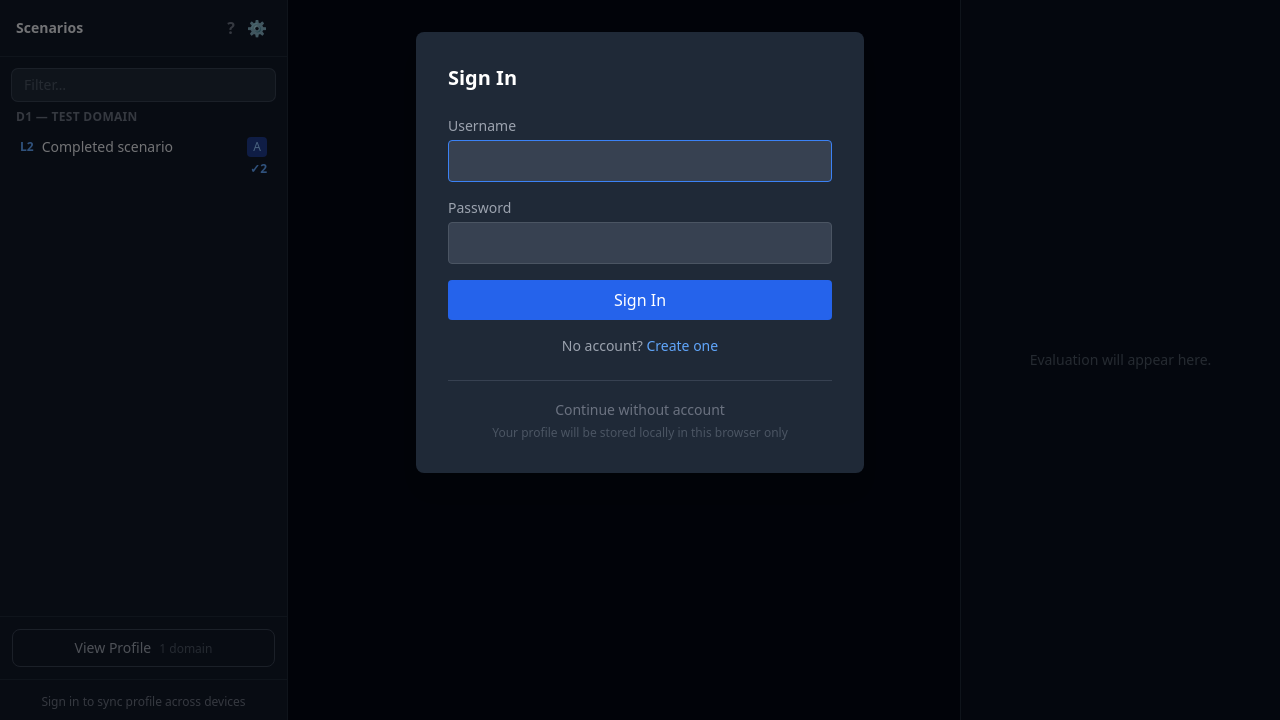
Test: App first-run and mobile layout › clears the in-memory profile and completion indicators immediately
The width and height of the screenshot is (1280, 720).
Click the button "Continue without account" at (640, 410), box [555,400,725,420]
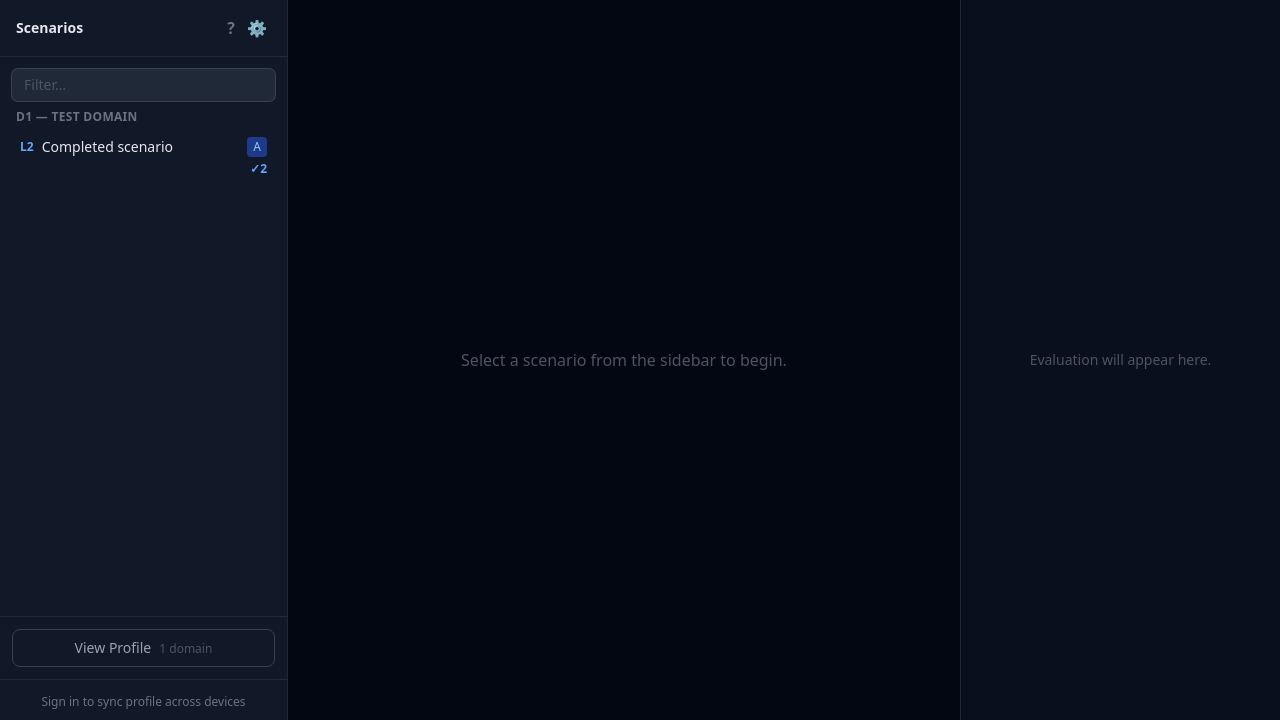
Expected: the text "✓2" is shown, [250,161,267,177]
Click the button titled "Settings" at (257, 28), box [243,12,271,44]
(page scrolled)
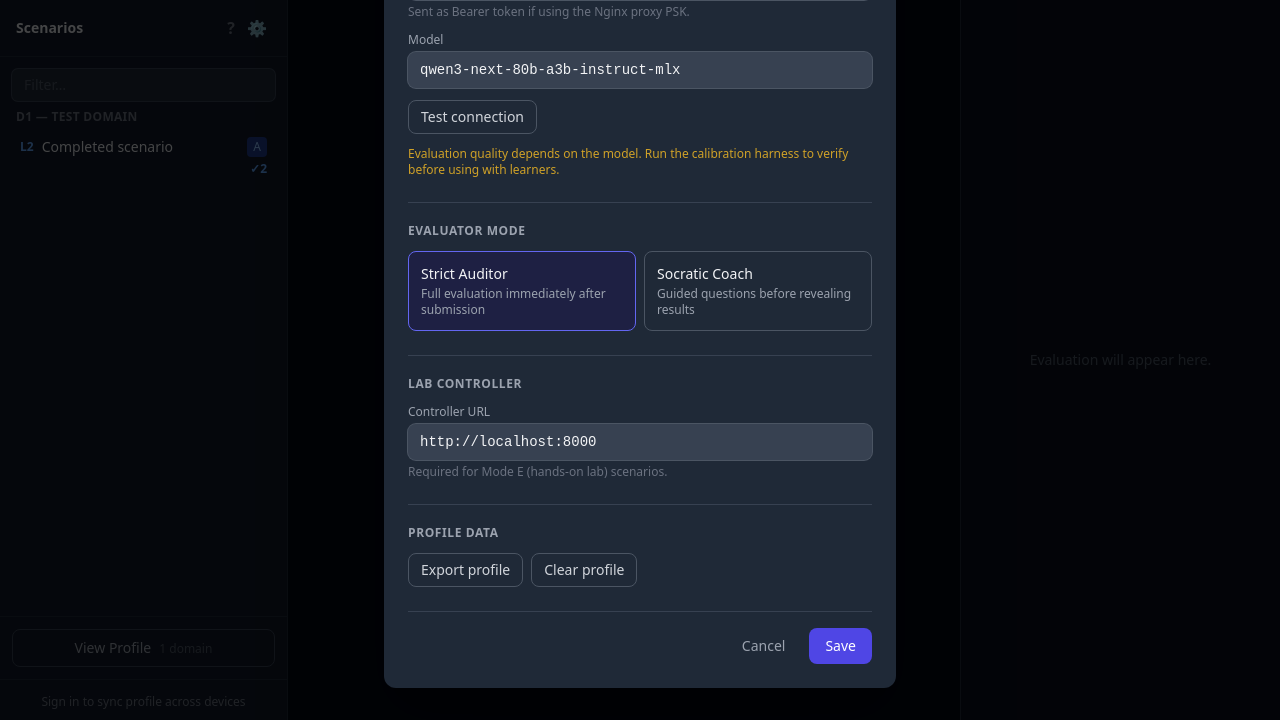
Click the button "Clear profile" at (584, 570), box [531,553,638,587]
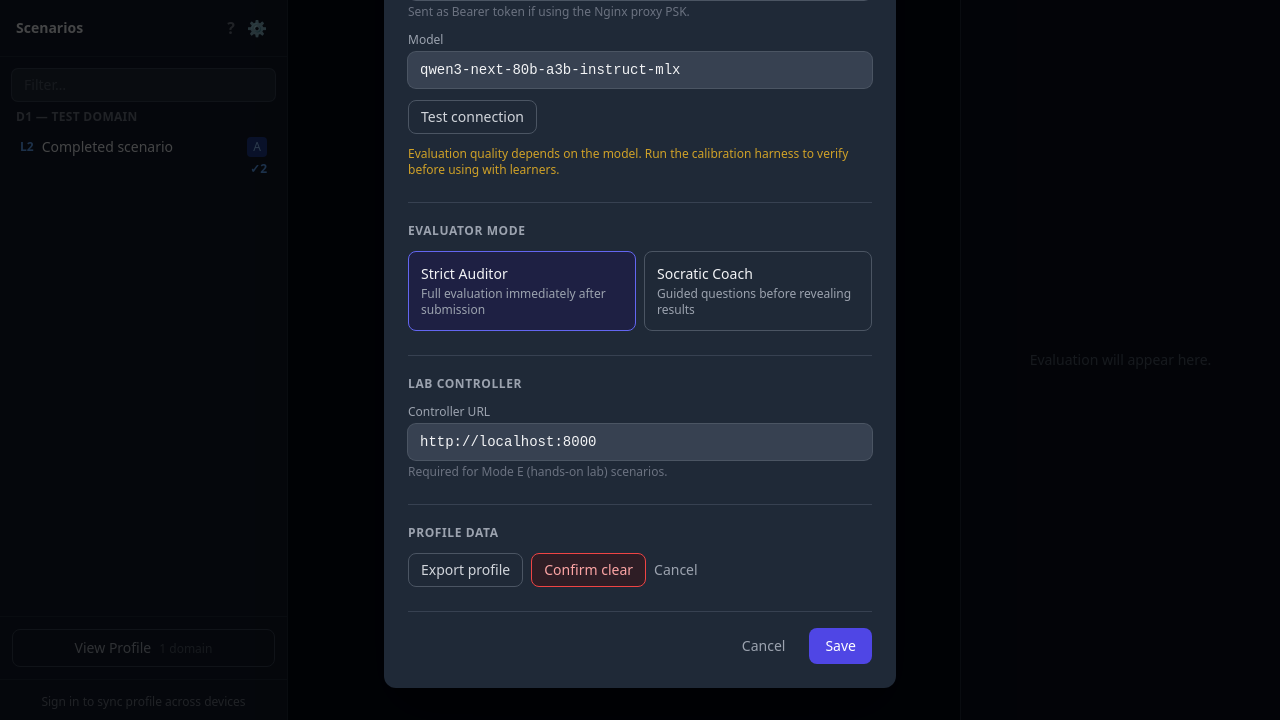
Click the button "Confirm clear" at (589, 570), box [531,553,646,587]
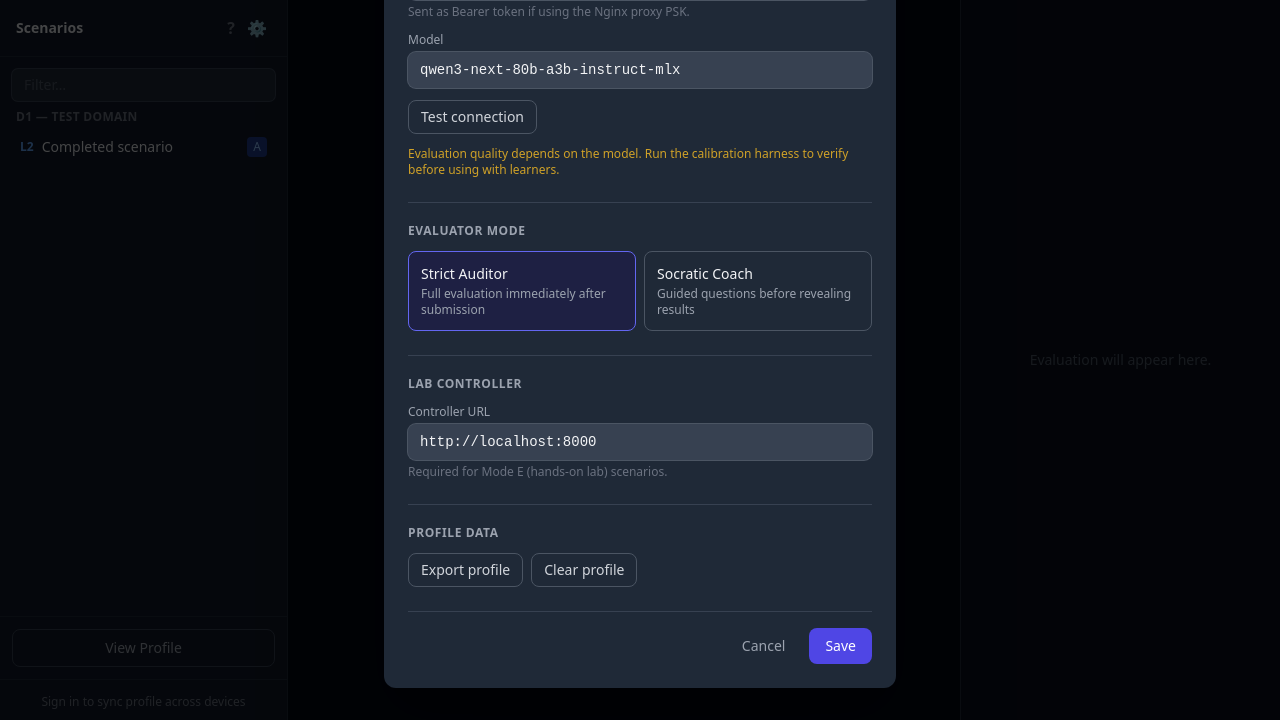
Result: the text "✓2" is gone
Result: the element named "Scenario navigation" no longer shows "1 domain" at [0,0,288,719]
